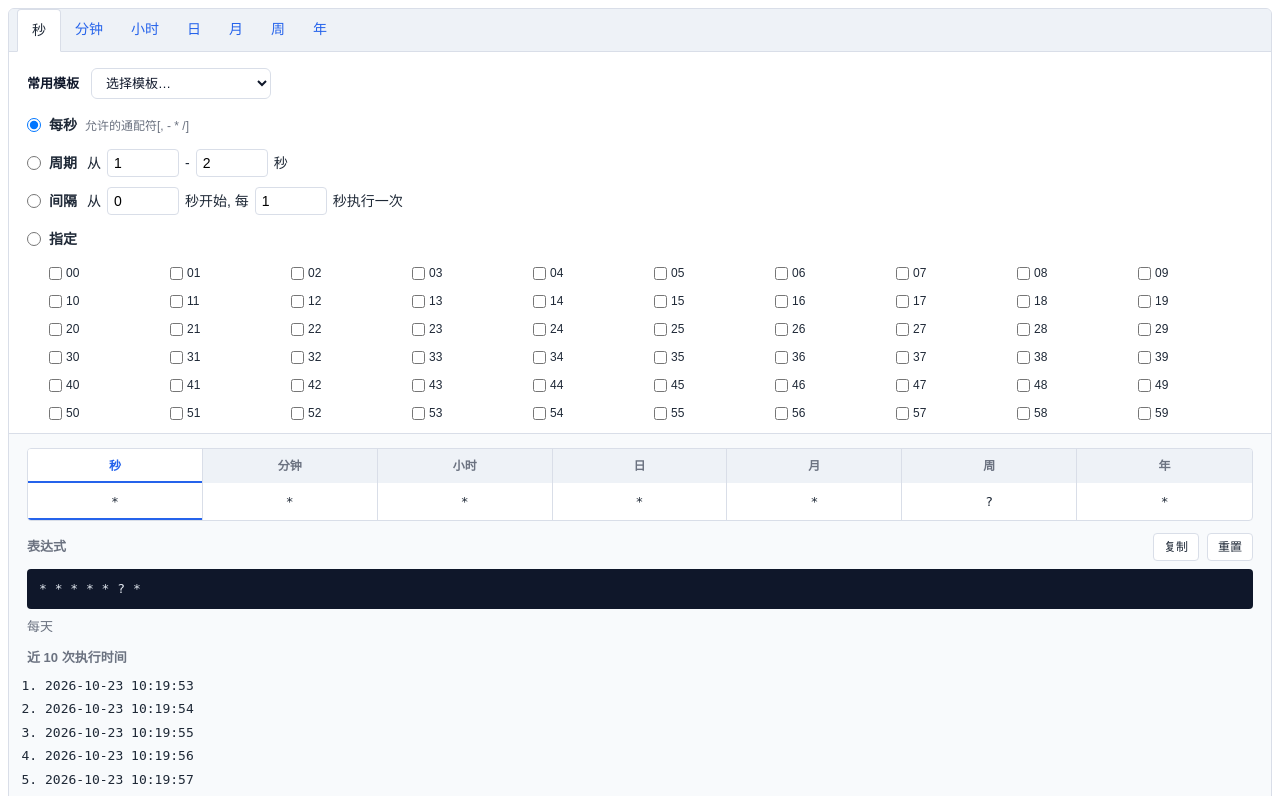
Test: CronZen › 切换 Tab 后配置区文案应隔离（无串字段）
Click the 3rd button with class "cron-zen__tab": {"x": 145, "y": 30} [117, 9, 173, 52]
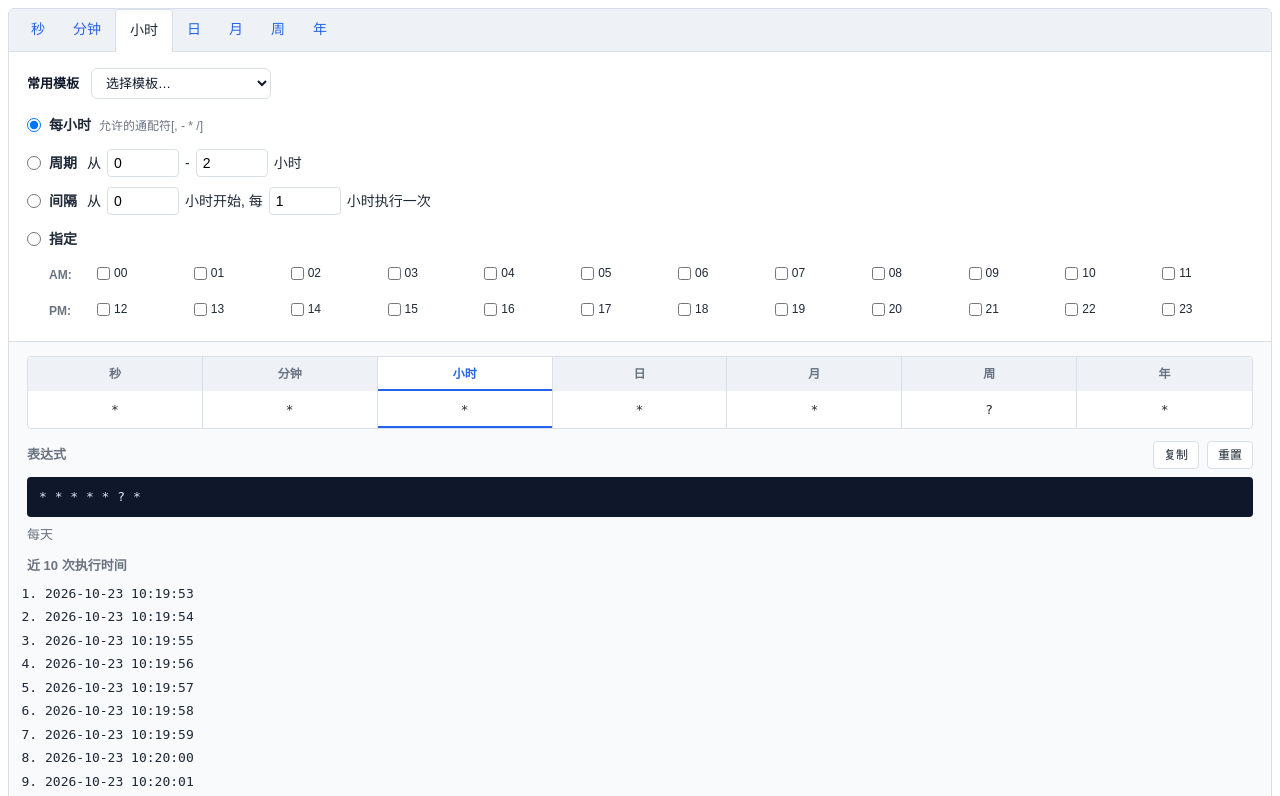
Now the element with class "cz-field" shows "每小时", box [49, 116, 91, 132]
Click the 6th button with class "cron-zen__tab": {"x": 278, "y": 30} [257, 9, 299, 52]
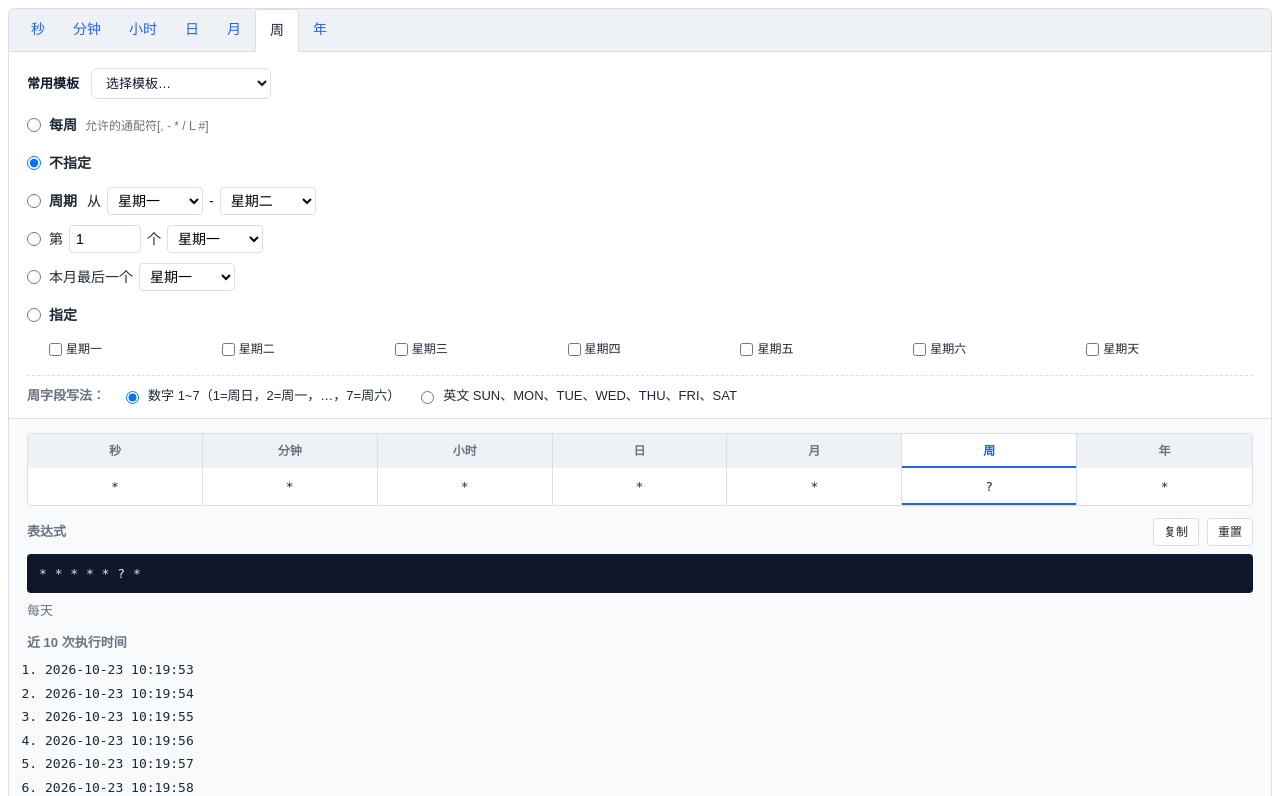
Now the element with class "cz-field" shows "每周", box [49, 116, 77, 132]
Now the element with class "cz-field" shows "周字段写法", box [27, 388, 105, 403]
Now the text with class "cz-field" no longer shows "每小时"
